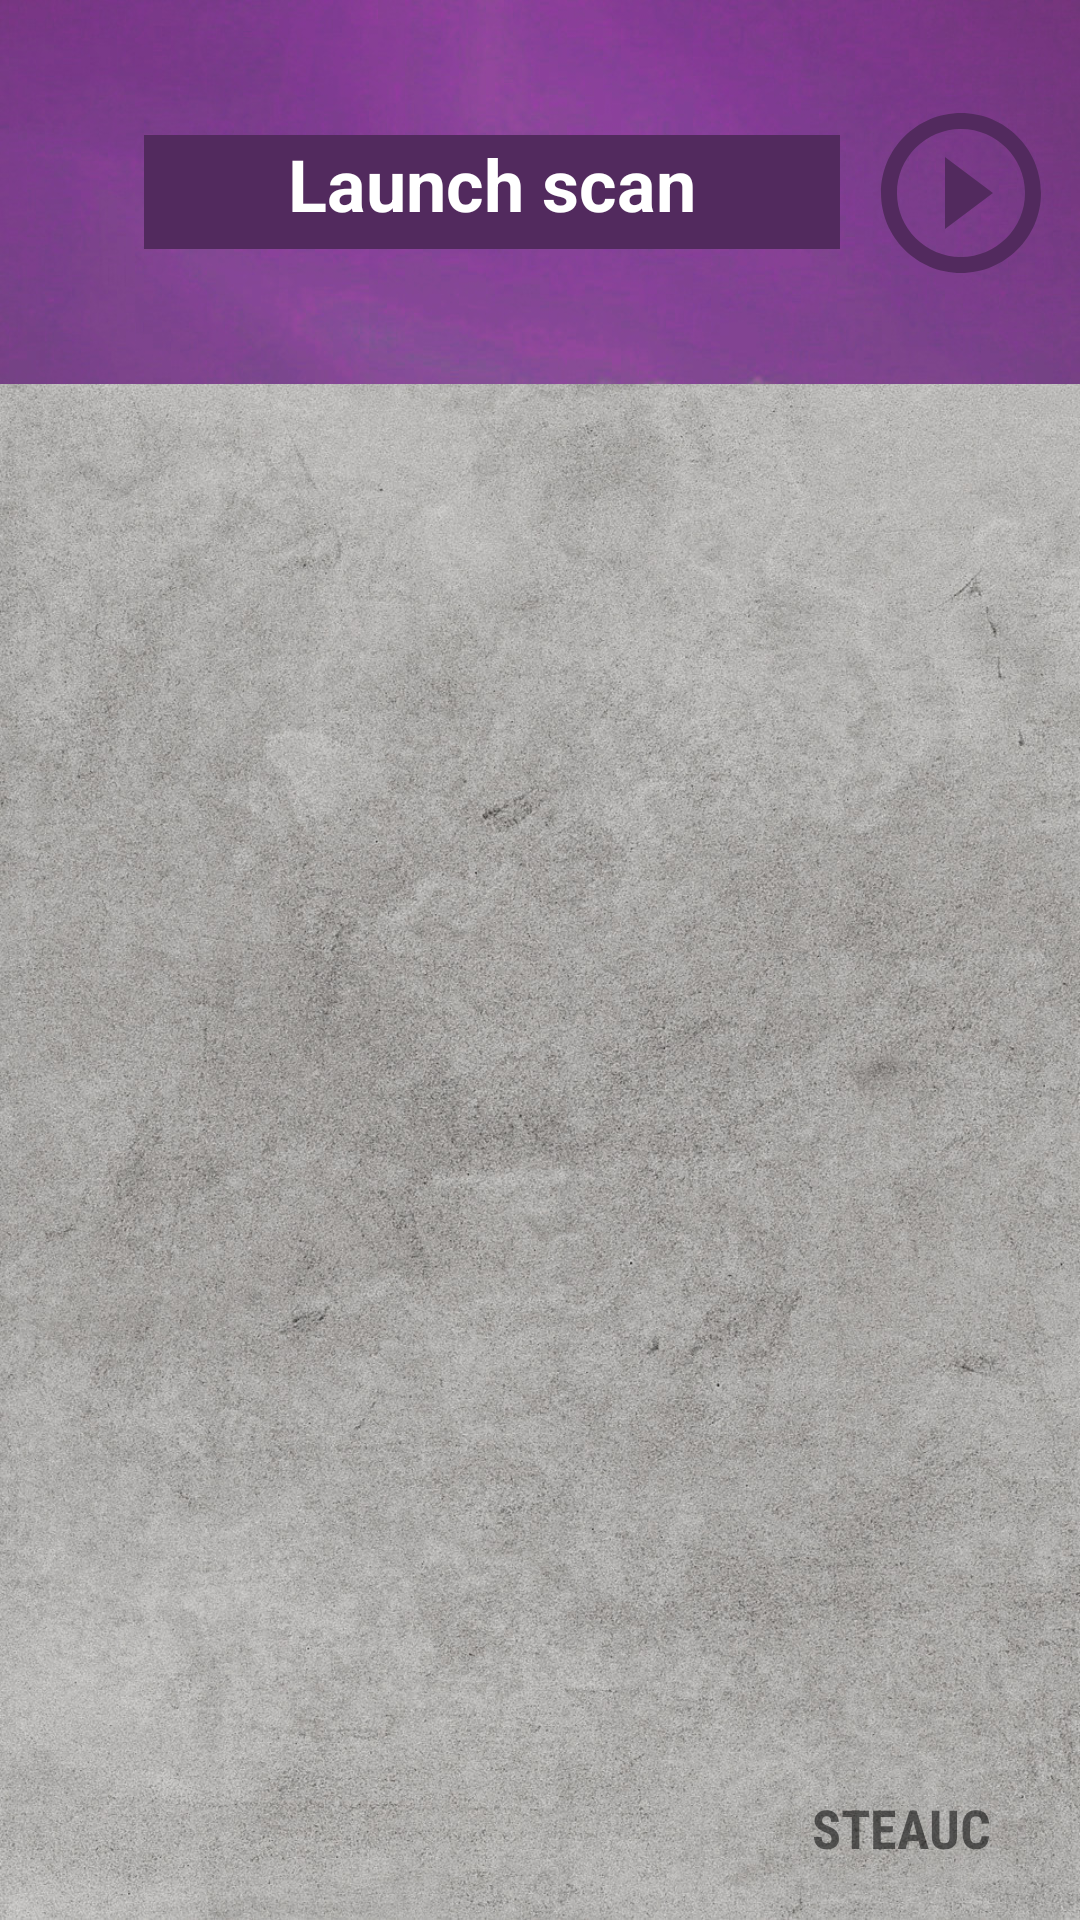

Named icons in this screenshot (1080px×1920px) and their bounding boxes, BBox(x1, y1, x2, y2):
play: BBox(881, 113, 1041, 273)
